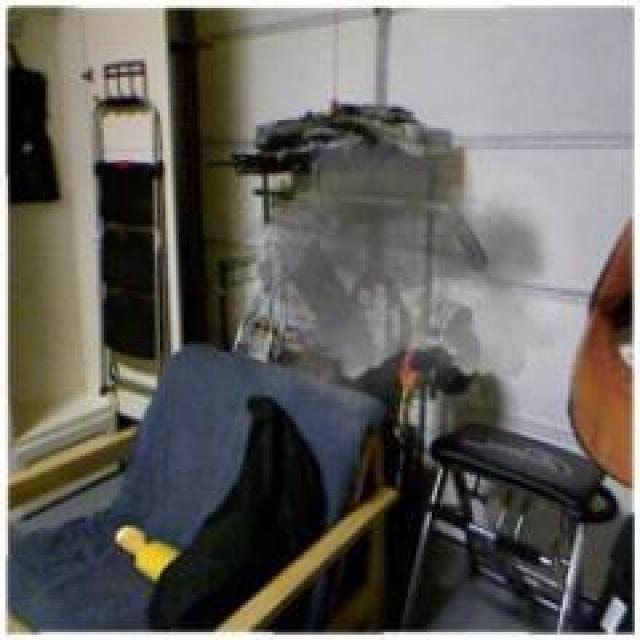Smoke: (228, 95, 580, 452)
